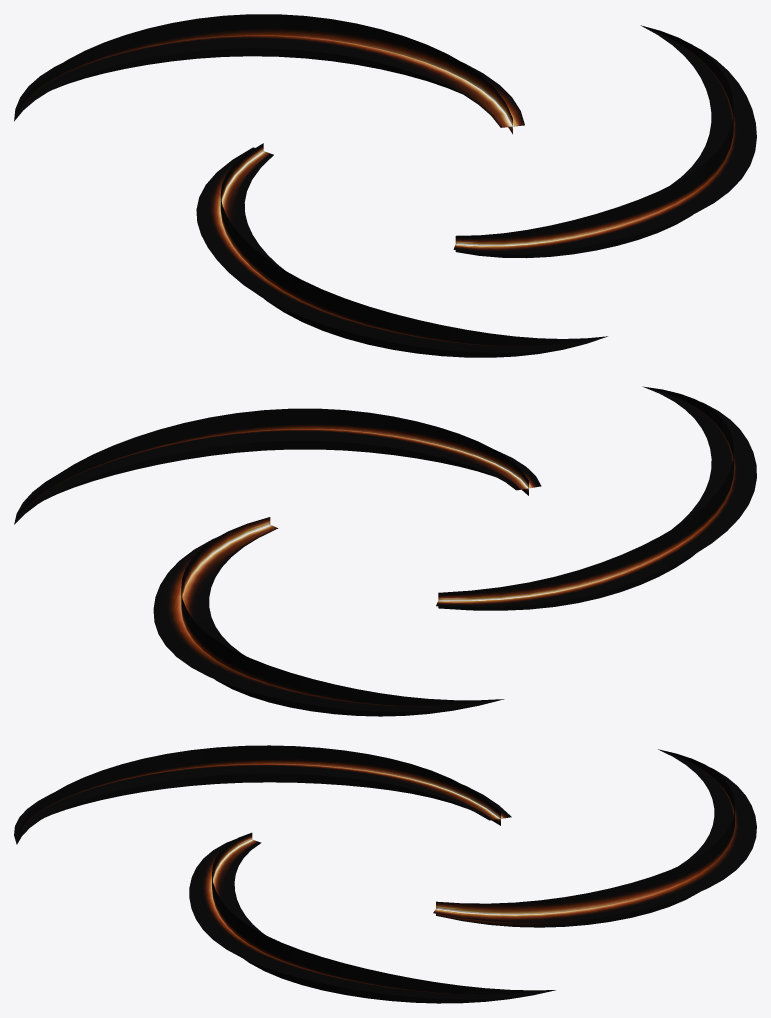
Rendered from xuandai01.FBX.
3 renders of one model, top to bottom at view 1: azimuth 30°, elevation 25°; view 2: azimuth 150°, elevation 25°; view 3: azimuth 270°, elevation 25°, orthographic. The views are drawn at different scales.
Visible parts, largest first — view 1: xuandai01; view 2: xuandai01; view 3: xuandai01.
Boxes of the visible parts, bbox=[...] form: xuandai01: bbox=[14, 14, 756, 357]; xuandai01: bbox=[14, 386, 756, 716]; xuandai01: bbox=[14, 745, 756, 1003].
Size of the model in its own units: 156 by 10.78 by 196.
1 material, 1 textured.
